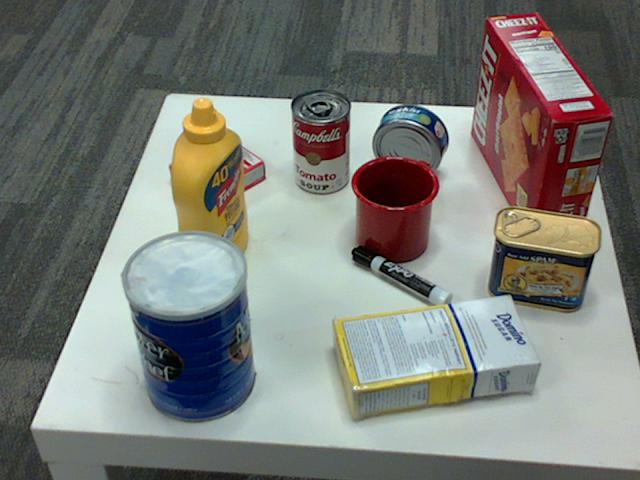cracker_box: (470, 11, 612, 240)
gelatin_box: (168, 132, 265, 207)
large_marker: (352, 246, 452, 314)
master_chef_can: (118, 232, 254, 425)
mug: (348, 154, 437, 260)
mustard_bottle: (169, 98, 248, 280)
potted_meat_can: (486, 206, 599, 311)
sugar_box: (329, 293, 538, 417)
tomato_soup_can: (290, 90, 350, 194)
tuna_fish_can: (371, 103, 447, 179)
